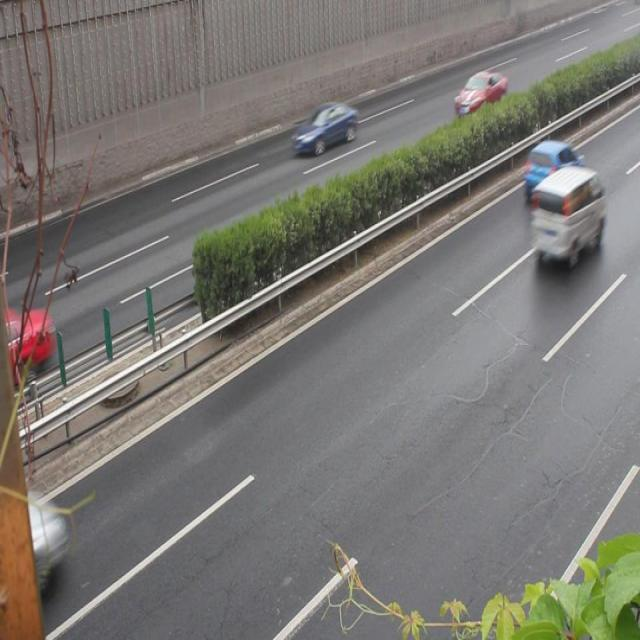car: (0, 480, 67, 600), (0, 304, 55, 374), (522, 139, 584, 200), (291, 101, 356, 153), (453, 68, 503, 116)
